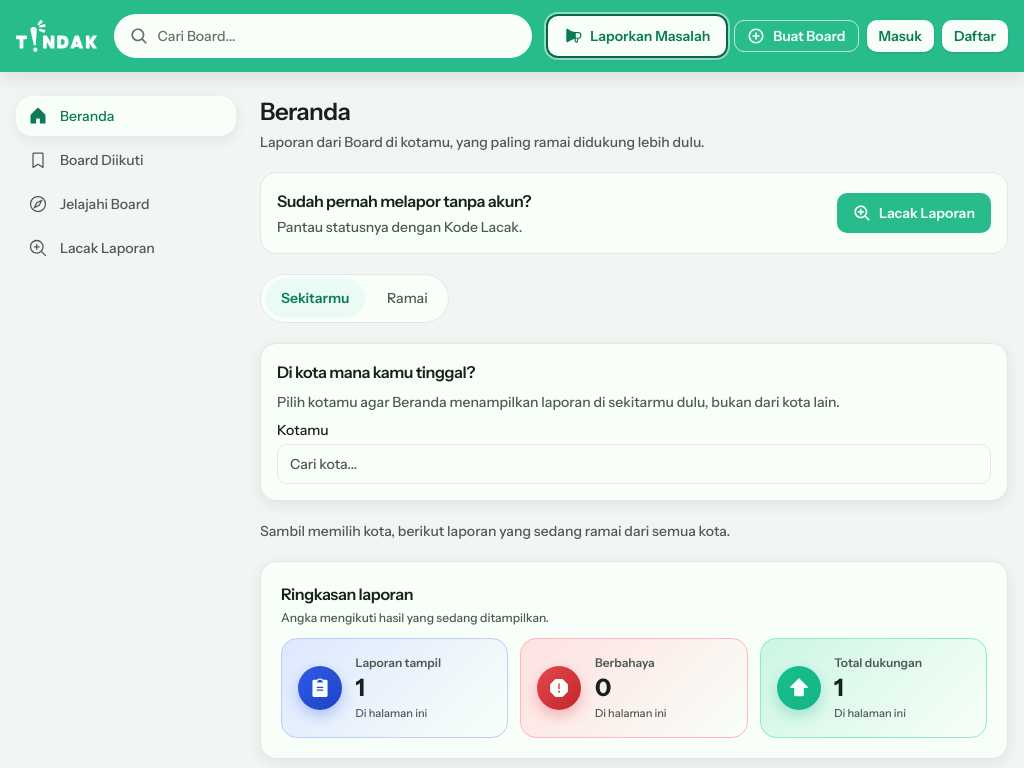
it: Beranda › tamu memilih kota lalu melihat laporan di sekitarnya
Expected: the heading "Di kota mana kamu tinggal?" is shown, [277,362,475,382]
Click the dropdown labelled "Kotamu" at (634, 464), box [277,444,991,484]
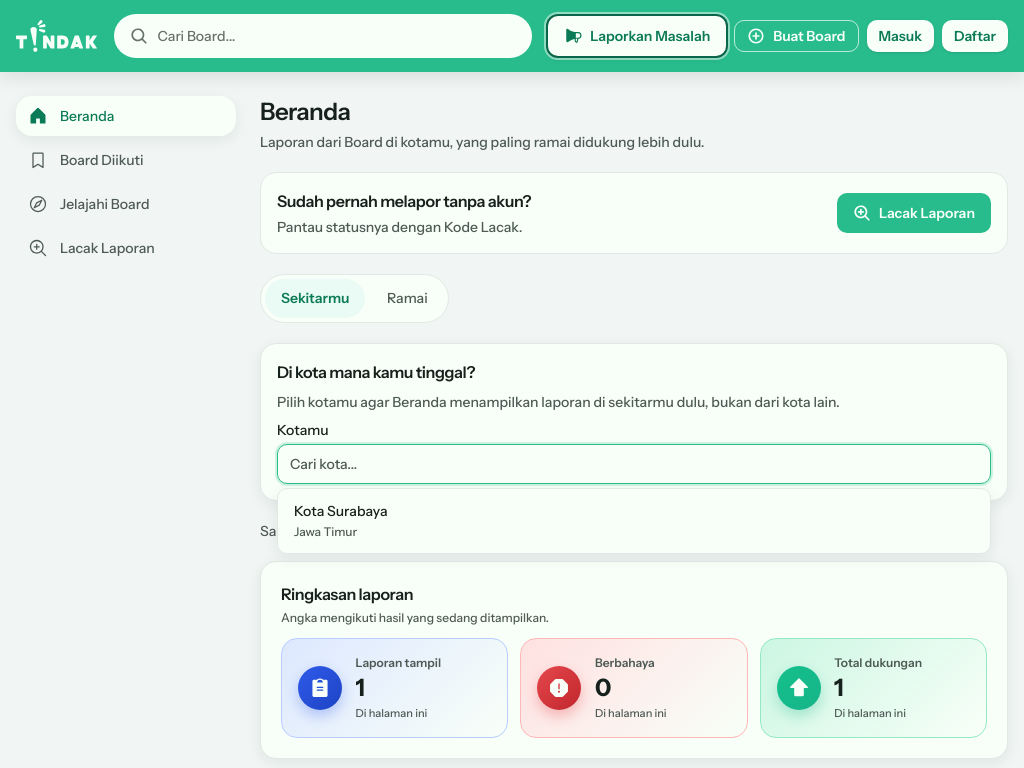
Click the option "Kota Surabaya Jawa Timur" at (341, 511), box [282,493,986,549]
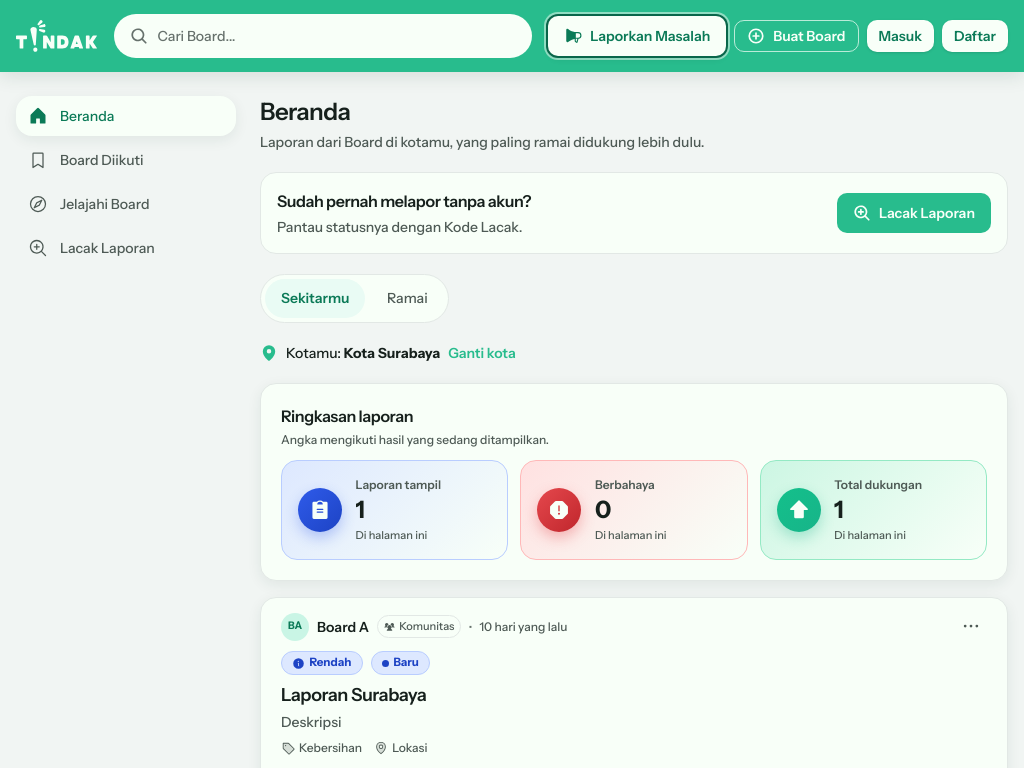
Expected: the heading "Laporan Surabaya" is shown, [281,684,426,706]
Expected: the text "Kota Surabaya" is shown, [344,344,440,362]
